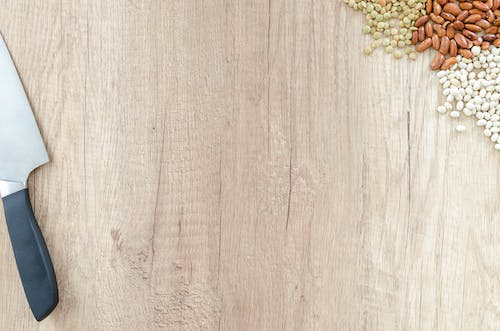knife: (0, 27, 60, 324)
